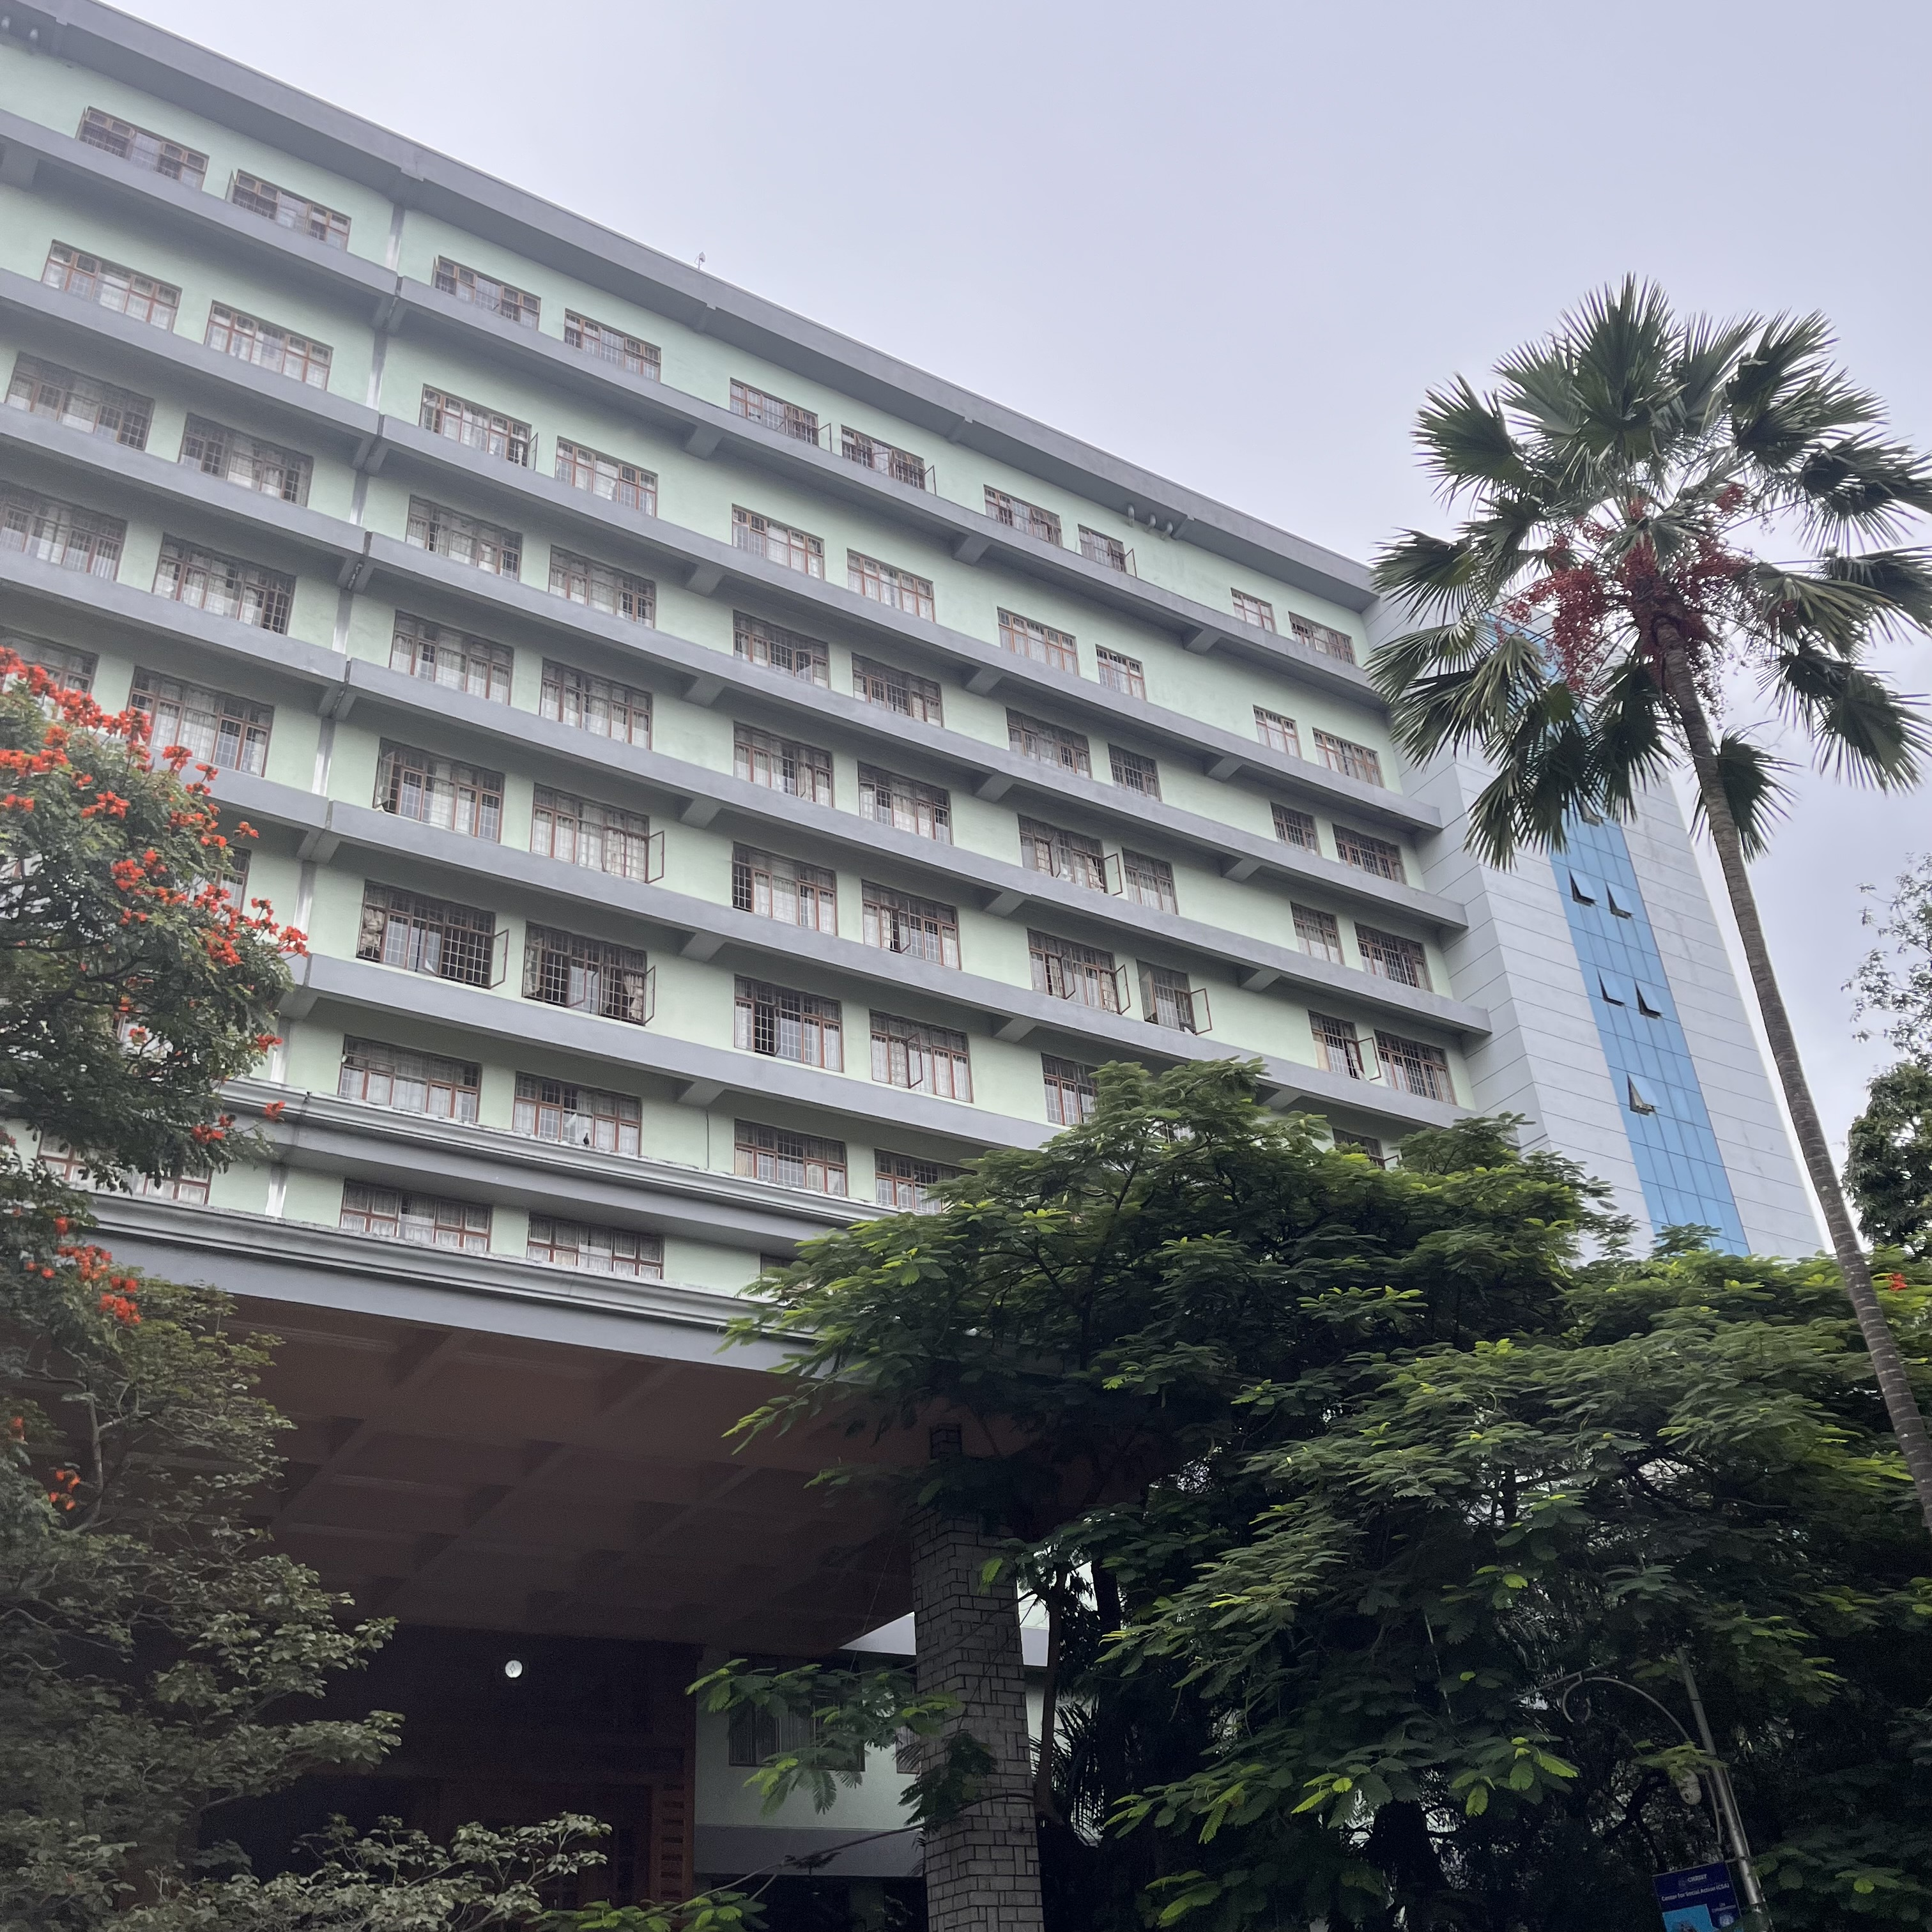Central Block: (55, 11, 1759, 1932)
